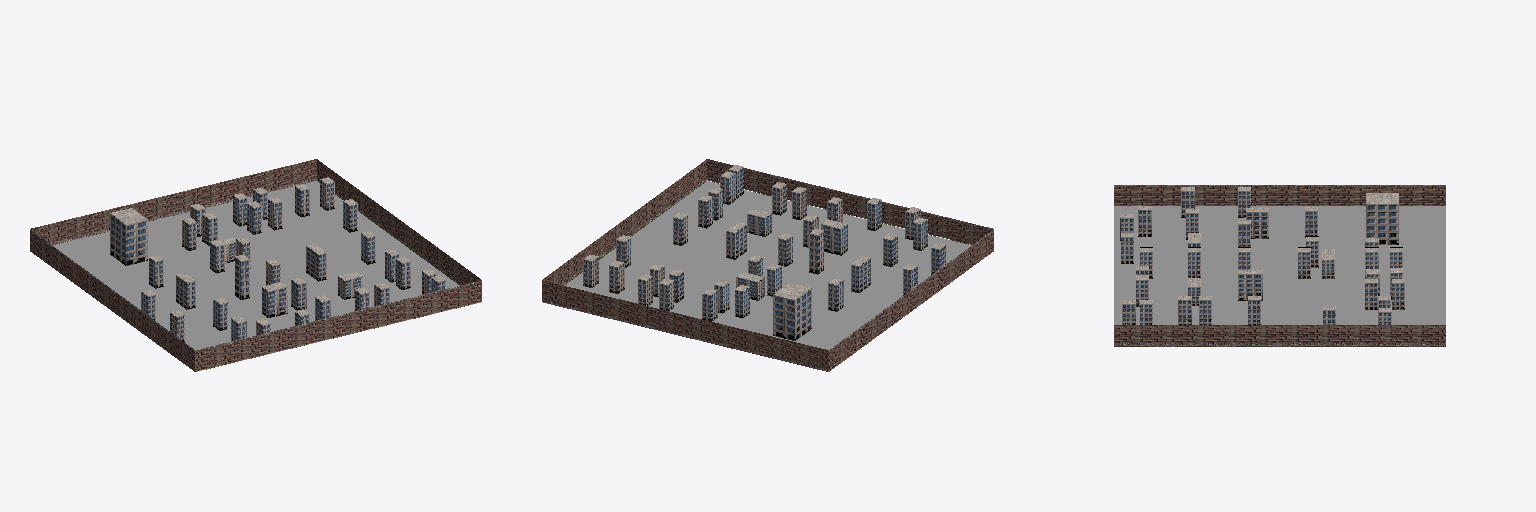
3 renders of one model, left to right at view 1: azimuth 30°, elevation 25°; view 2: azimuth 150°, elevation 25°; view 3: azimuth 270°, elevation 25°, orthographic.
Parts seen in each view (by area): view 1: Grid_Grid.001, Plane.001, Plane.002, building.027_Cube.029, building.004_Cube.006, building.012_Cube.014, building.001_Cube.003, building.011_Cube.013, building.015_Cube.017; view 2: Grid_Grid.001, Plane.001, Plane.002, building.027_Cube.029, building.004_Cube.006, building.012_Cube.014, building.001_Cube.003, building.011_Cube.013, building.015_Cube.017, building.003_Cube.005; view 3: Grid_Grid.001, Plane.002, building.027_Cube.029, building.012_Cube.014, building.011_Cube.013.
Part boxes in pixels (left/top/right/bottom): Grid_Grid.001: left=52, top=181, right=480, bottom=371; Plane.001: left=30, top=159, right=481, bottom=371; Plane.002: left=30, top=159, right=480, bottom=371; building.027_Cube.029: left=110, top=208, right=147, bottom=265; building.004_Cube.006: left=262, top=282, right=287, bottom=317; building.012_Cube.014: left=306, top=244, right=326, bottom=281; building.001_Cube.003: left=235, top=254, right=249, bottom=299; building.011_Cube.013: left=176, top=273, right=195, bottom=309; building.015_Cube.017: left=338, top=271, right=362, bottom=299; Grid_Grid.001: left=564, top=181, right=971, bottom=349; Plane.001: left=542, top=159, right=993, bottom=371; Plane.002: left=543, top=159, right=993, bottom=371; building.027_Cube.029: left=773, top=283, right=811, bottom=340; building.004_Cube.006: left=821, top=219, right=847, bottom=255; building.012_Cube.014: left=726, top=222, right=746, bottom=259; building.001_Cube.003: left=809, top=229, right=823, bottom=274; building.011_Cube.013: left=851, top=256, right=870, bottom=292; building.015_Cube.017: left=747, top=209, right=771, bottom=236; building.003_Cube.005: left=736, top=272, right=764, bottom=300; Grid_Grid.001: left=1114, top=206, right=1445, bottom=324; Plane.002: left=1114, top=185, right=1445, bottom=346; building.027_Cube.029: left=1366, top=193, right=1398, bottom=244; building.012_Cube.014: left=1238, top=270, right=1262, bottom=300; building.011_Cube.013: left=1246, top=208, right=1268, bottom=238.
Size of the model in its own units: 1000 by 137 by 1000.
75 materials, 2 textured.